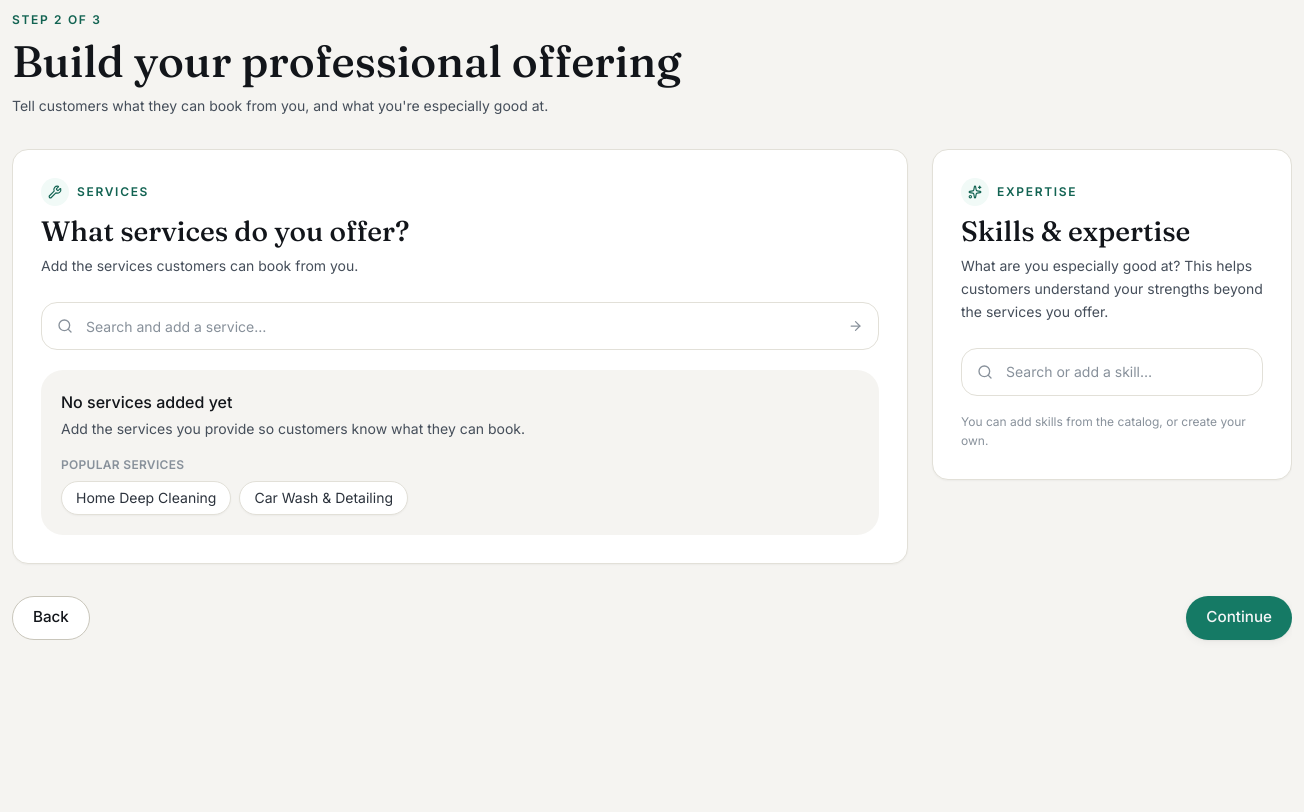
Test: StepSkillsServices — services section › groups search results under real category headers
Step 1. Click the dropdown named "Search services" → (460, 326), box [41, 302, 879, 350]
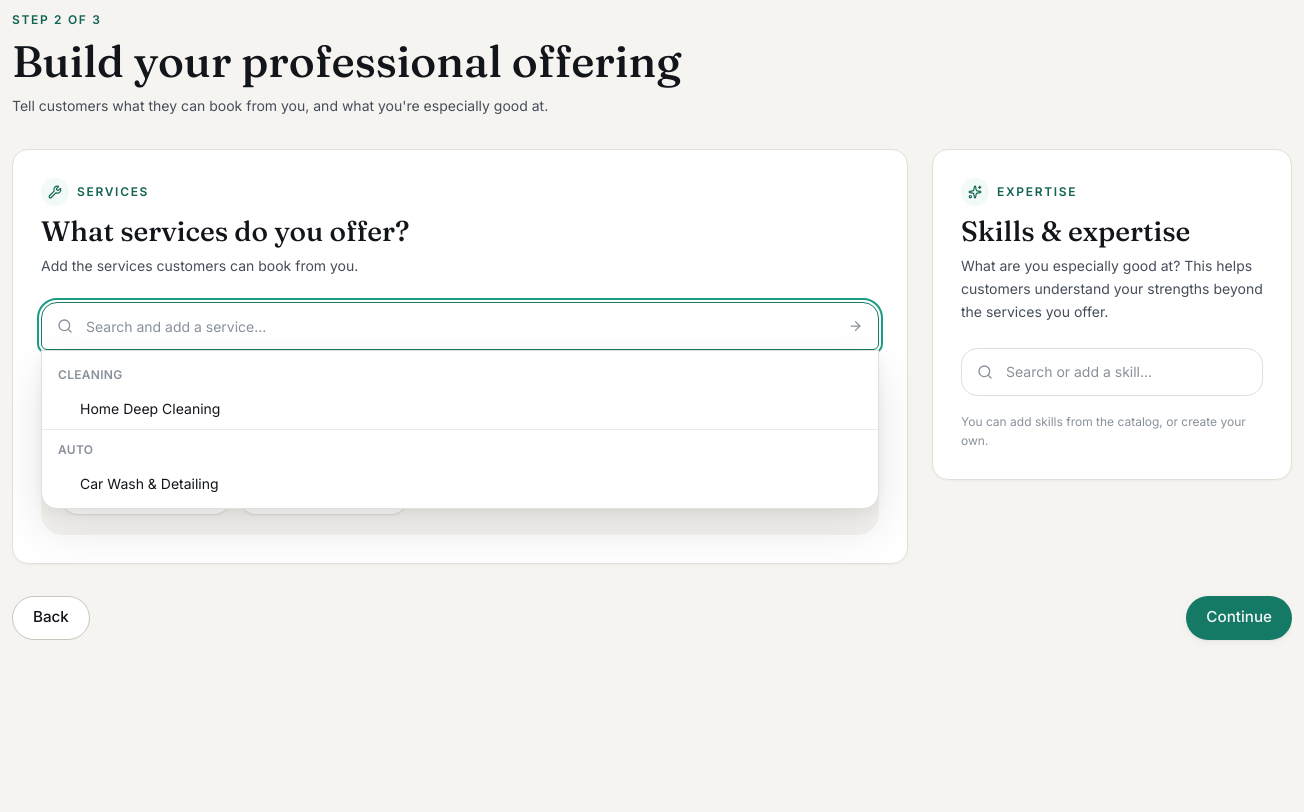
Expected: the text "Cleaning" is shown, [58, 367, 123, 382]
Expected: the text "Auto" is shown, [58, 442, 93, 457]
Expected: the option "Home Deep Cleaning" is shown, [80, 400, 220, 417]
